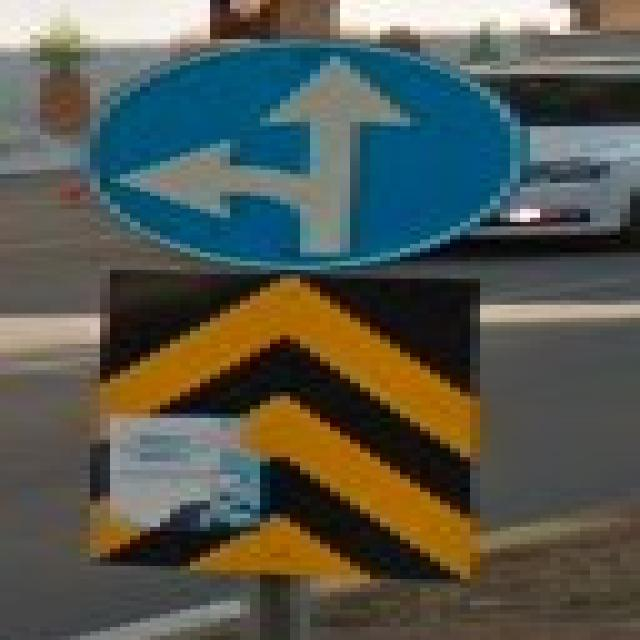Straight or Left: (91, 40, 521, 271)
